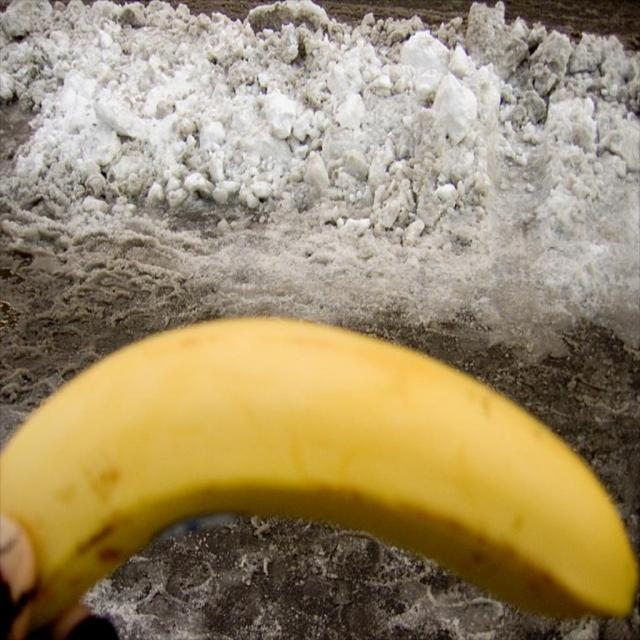Banana: (0, 304, 632, 632)
